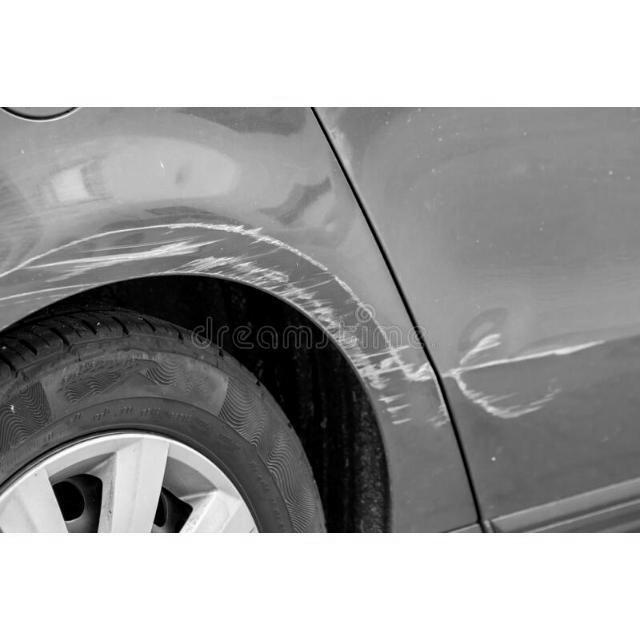fender-dent: (0, 107, 318, 453), (91, 226, 449, 533)
